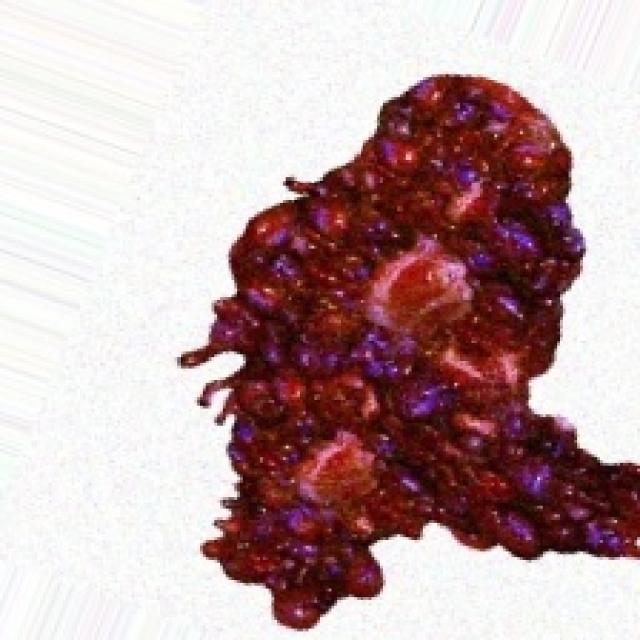Amoeba: (177, 69, 637, 632)
